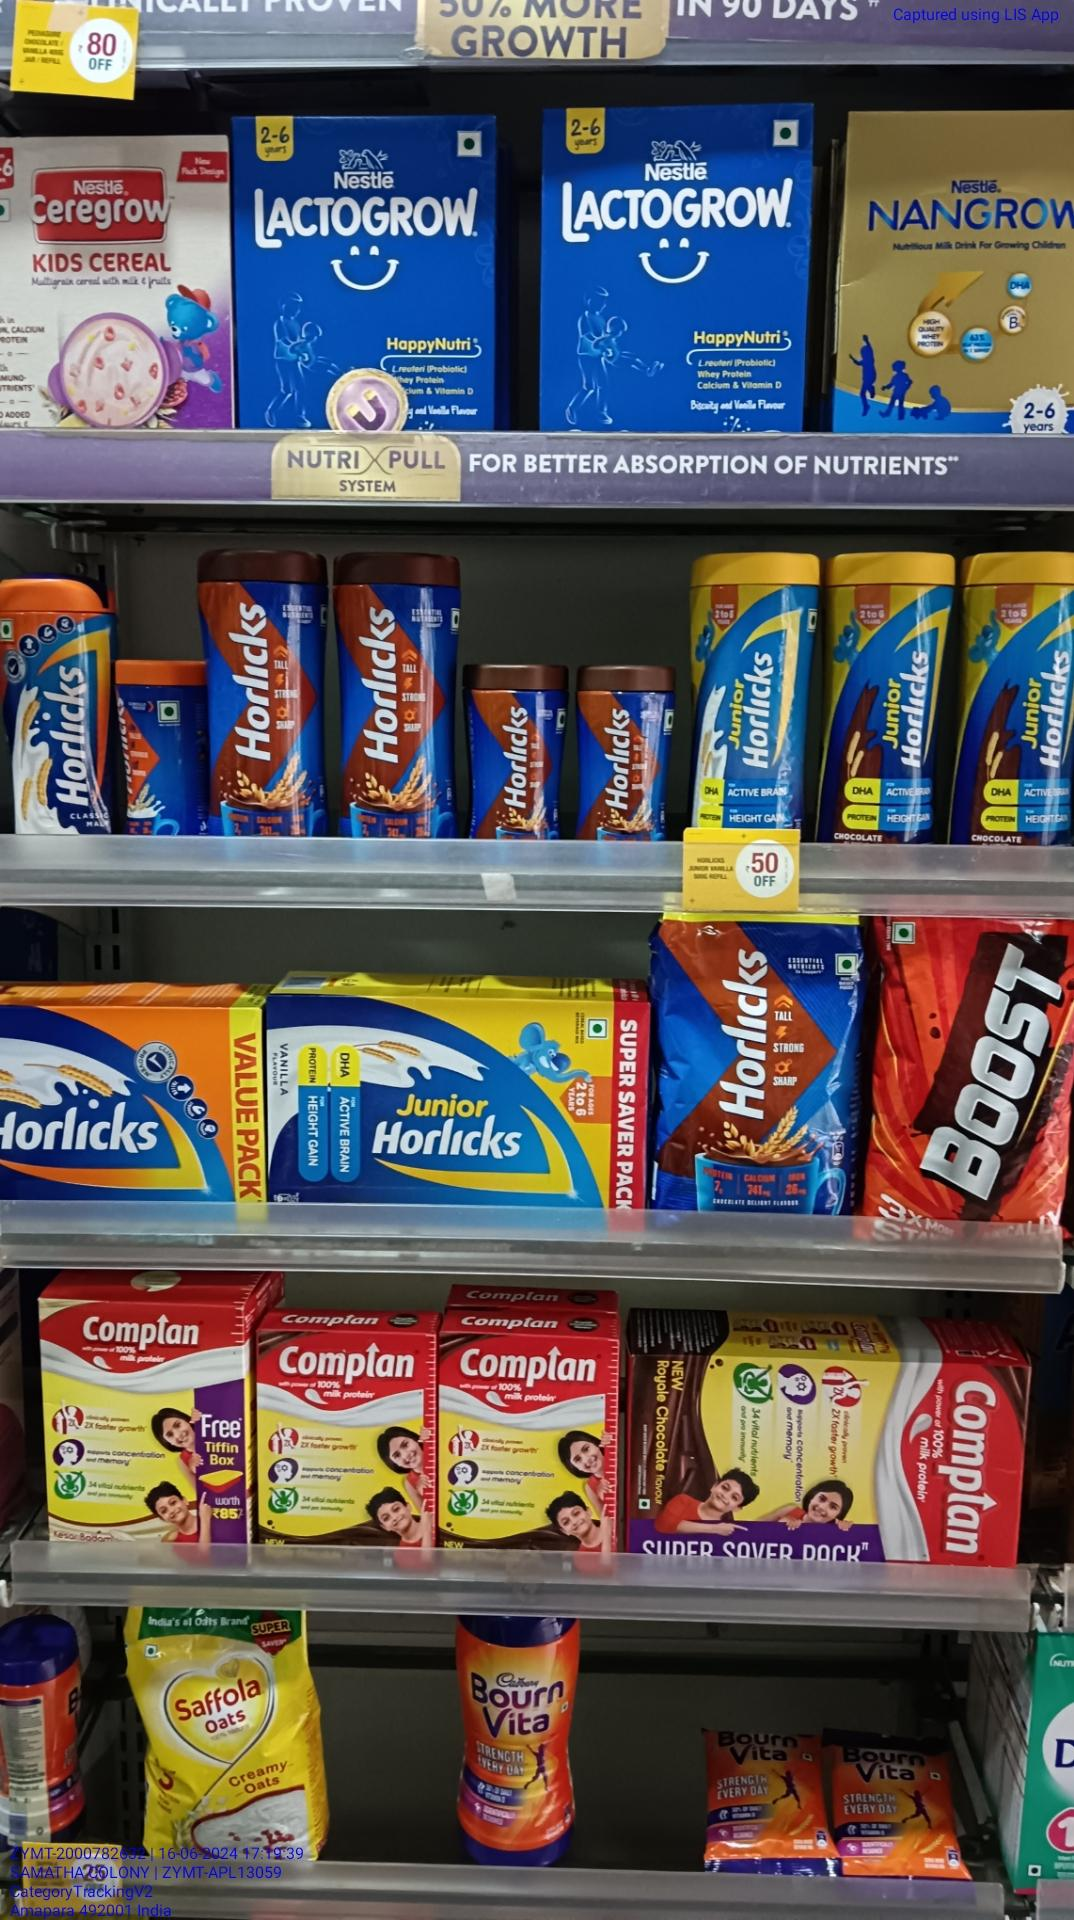COMPLAN_KESAR_BADAM_500_GMS_PACK: (40, 1298, 251, 1573)
HORLICK_CHOCOLATE_200_G_JAR: (466, 663, 567, 843), (581, 663, 670, 844)
HORLICK_CHOCOLATE_500_G_JAR: (334, 550, 458, 839), (208, 543, 321, 843)
HORLICK_CHOCOLATE_750_G_POUCH: (657, 913, 852, 1216)
HORLICK_CLASSIC_MALT_500_G_JAR: (3, 567, 110, 829)
